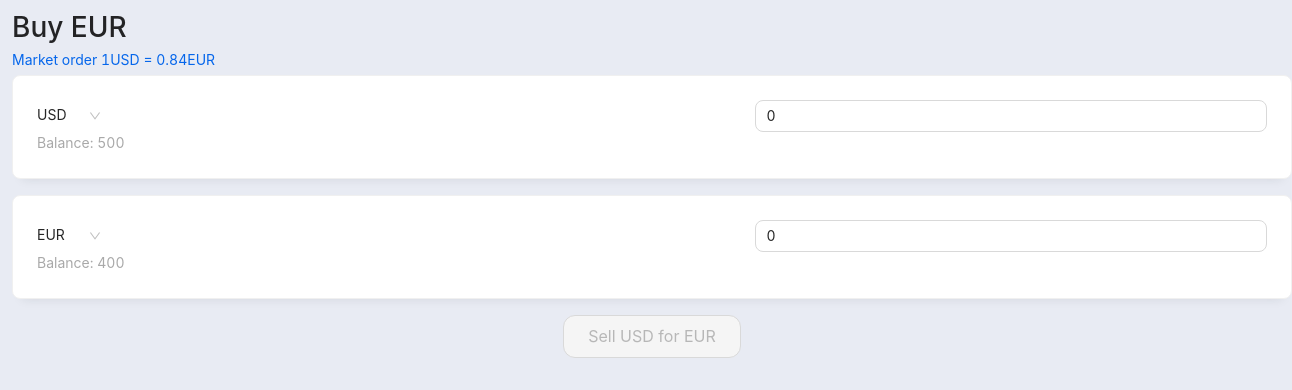
Test: After data fetching › Input validation › Should reset inputs when buying currency is changed
Type "420.699999" into the 1st field with placeholder "0" at (1011, 116), box x1=754 y1=100 x2=1267 y2=132
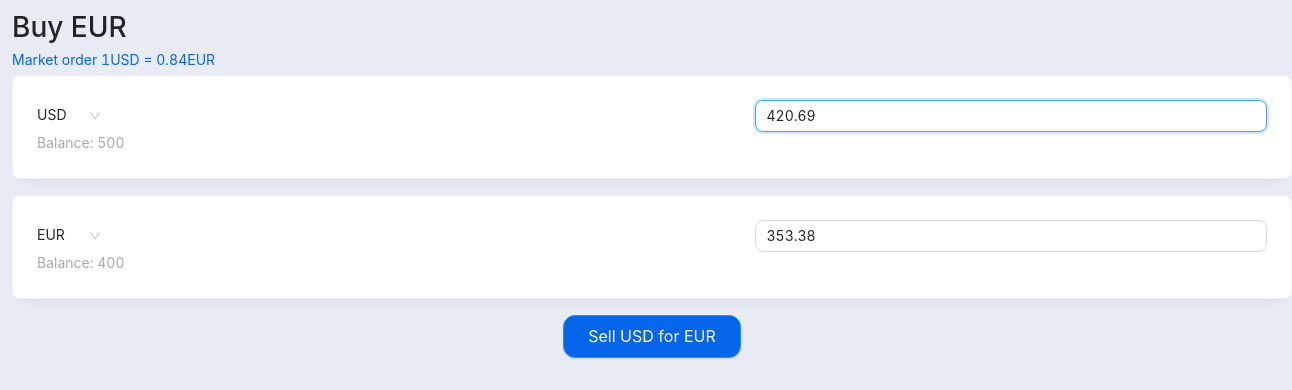
Result: the 1st field with placeholder "0" holds "420.69" at x1=754 y1=100 x2=1267 y2=132
Click the text "EUR" at (51, 234), box x1=37 y1=220 x2=112 y2=252
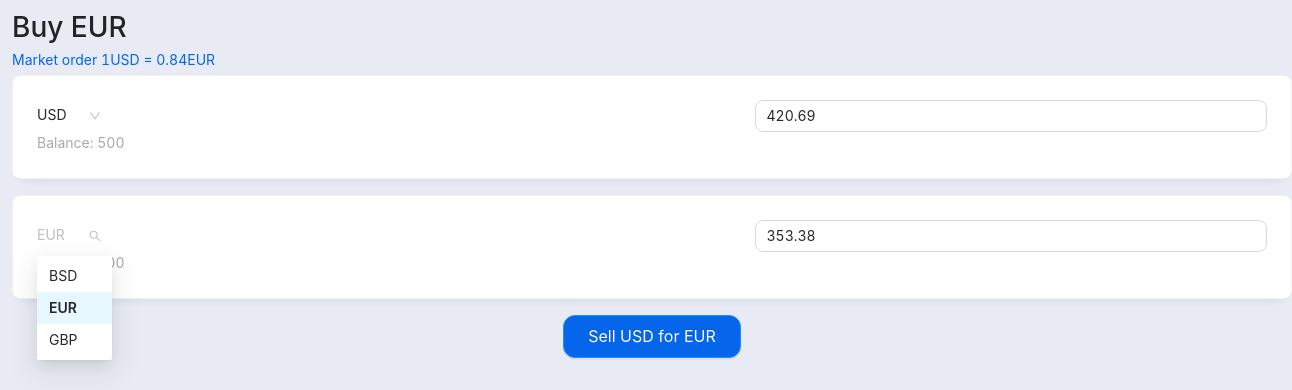
Click the text "GBP" at (63, 340), box x1=49 y1=331 x2=78 y2=348
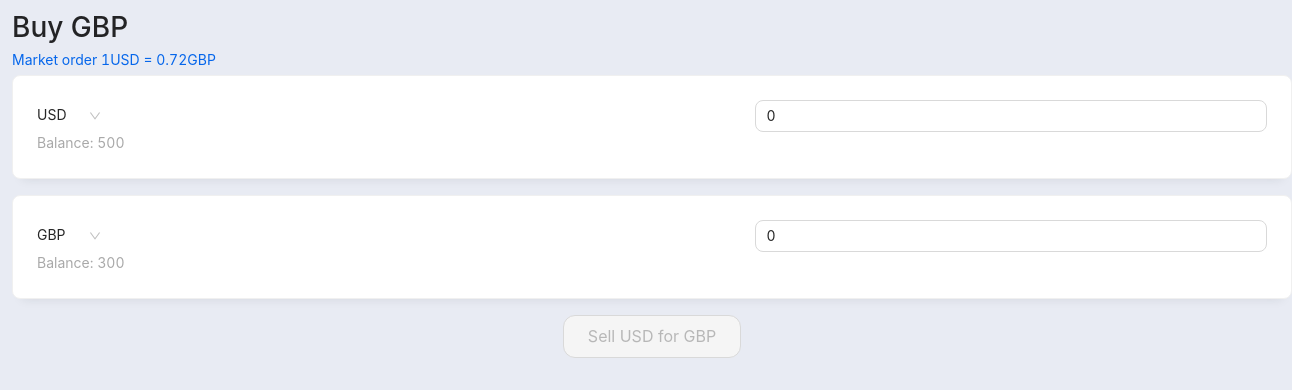
Result: the 1st field with placeholder "0" holds "0" at x1=754 y1=100 x2=1267 y2=132
Result: the 2nd field with placeholder "0" holds "0" at x1=754 y1=220 x2=1267 y2=252
